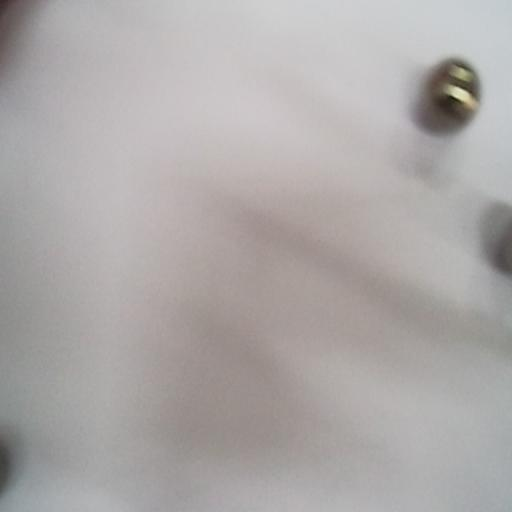steel-ball: (428, 52, 486, 135)
